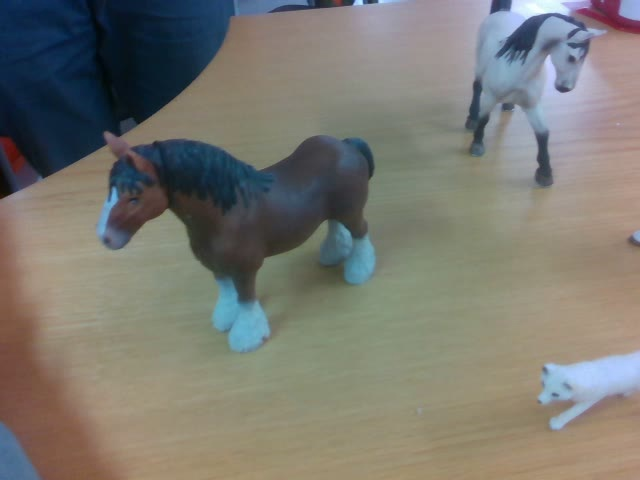toy: (96, 130, 377, 353), (462, 1, 607, 188)
